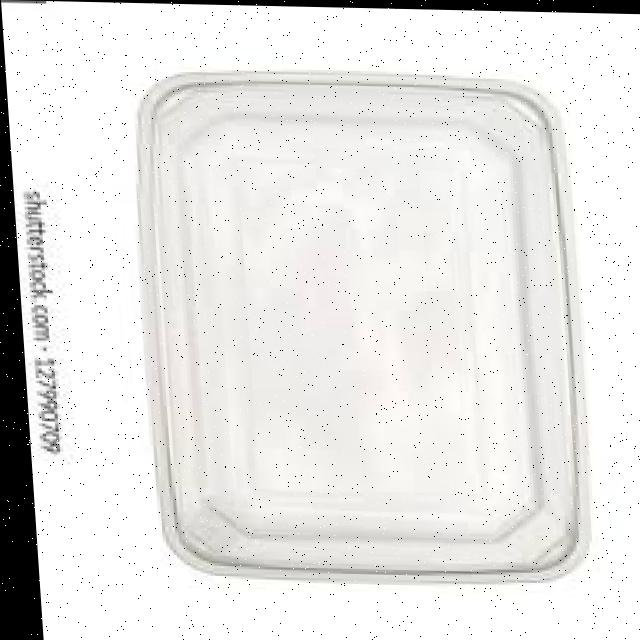disposable: (116, 67, 605, 591)
